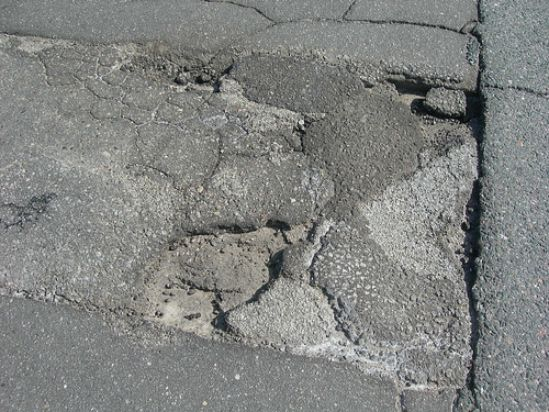pothole: (131, 215, 304, 341), (355, 140, 491, 282), (372, 67, 494, 142)
